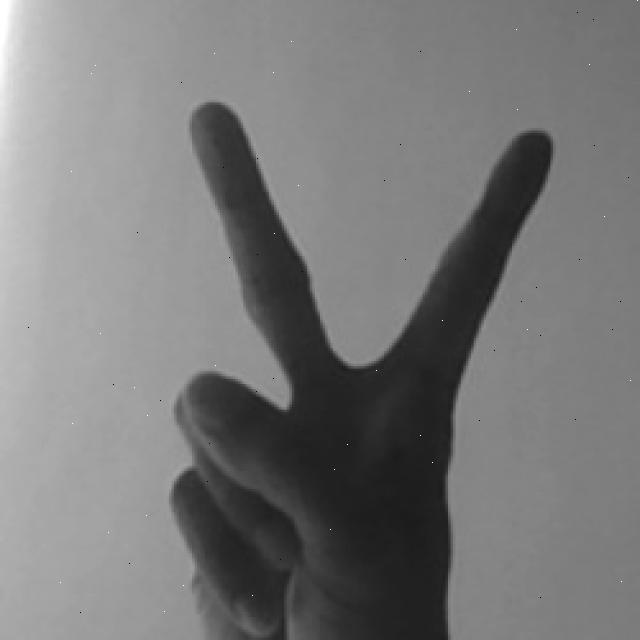V: (146, 94, 560, 640)
